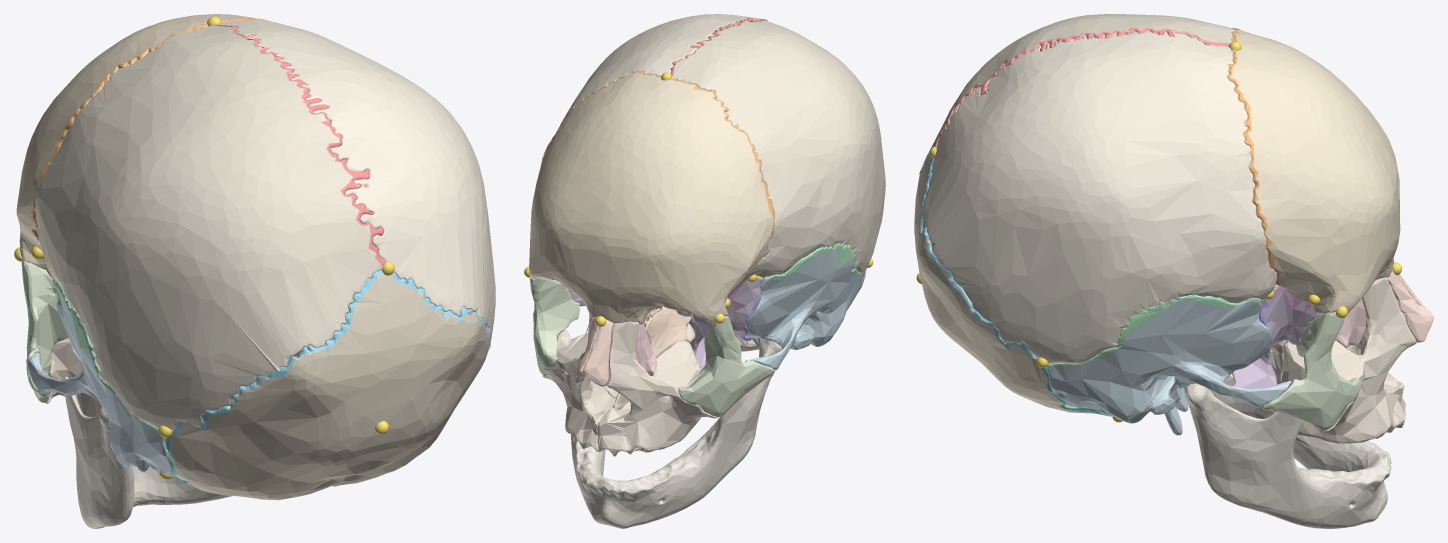
Rendered from skull_bones.glb.
The picture shows the model from 3 angles, left to right: view 1: azimuth 30°, elevation 25°; view 2: azimuth 150°, elevation 25°; view 3: azimuth 270°, elevation 25°; orthographic projection. The views are drawn at different scales.
Visible parts, largest first — view 1: Left parietal bone, Occipital bone, Right parietal bone, Mandible, Frontal bone, Left temporal bone, Left zygomatic bone, Sagittal suture, Lambdoid suture (left), Left maxilla, Coronal suture (left), Squamous suture (left) (+1 smaller); view 2: Frontal bone, Left parietal bone, Mandible, Left maxilla, Left temporal bone, Right parietal bone, Left zygomatic bone, Right maxilla, Right zygomatic bone, Sphenoid bone, Ethmoid bone, Left nasal bone (+3 smaller); view 3: Right parietal bone, Frontal bone, Mandible, Right temporal bone, Right maxilla, Occipital bone, Right zygomatic bone, Left parietal bone, Sphenoid bone, Sagittal suture, Squamous suture (right), Right nasal bone (+3 smaller).
Boxes of the visible parts, x1,y1,x2,y2 form: Left parietal bone: (35,25,382,429); Occipital bone: (169,273,490,500); Right parietal bone: (219,19,495,335); Mandible: (64,376,231,528); Frontal bone: (16,14,254,270); Left temporal bone: (27,278,178,477); Left zygomatic bone: (21,259,68,402); Sagittal suture: (211,24,385,266); Lambdoid suture (left): (172,270,383,437); Left maxilla: (45,338,101,416); Coronal suture (left): (32,23,207,241); Squamous suture (left): (51,276,158,432); Frontal bone: (529,72,774,324); Left parietal bone: (672,19,885,277); Mandible: (571,324,782,528); Left maxilla: (597,321,718,456); Left temporal bone: (746,243,866,376); Right parietal bone: (558,14,758,128); Left zygomatic bone: (678,316,774,417); Right maxilla: (542,314,615,451); Right zygomatic bone: (530,277,579,374); Sphenoid bone: (568,280,760,369); Ethmoid bone: (644,306,691,357); Left nasal bone: (583,319,613,386); Right parietal bone: (922,30,1276,363); Frontal bone: (1229,29,1400,314); Mandible: (1183,373,1391,528); Right temporal bone: (1046,295,1291,435); Right maxilla: (1281,277,1416,443); Occipital bone: (914,154,1097,413); Right zygomatic bone: (1262,311,1360,431); Left parietal bone: (922,14,1234,165); Sphenoid bone: (1232,287,1316,408); Sagittal suture: (934,27,1229,146); Squamous suture (right): (1047,294,1261,366); Right nasal bone: (1387,269,1433,342).
Bounding box in the file's own units: 151 × 215 × 209.
